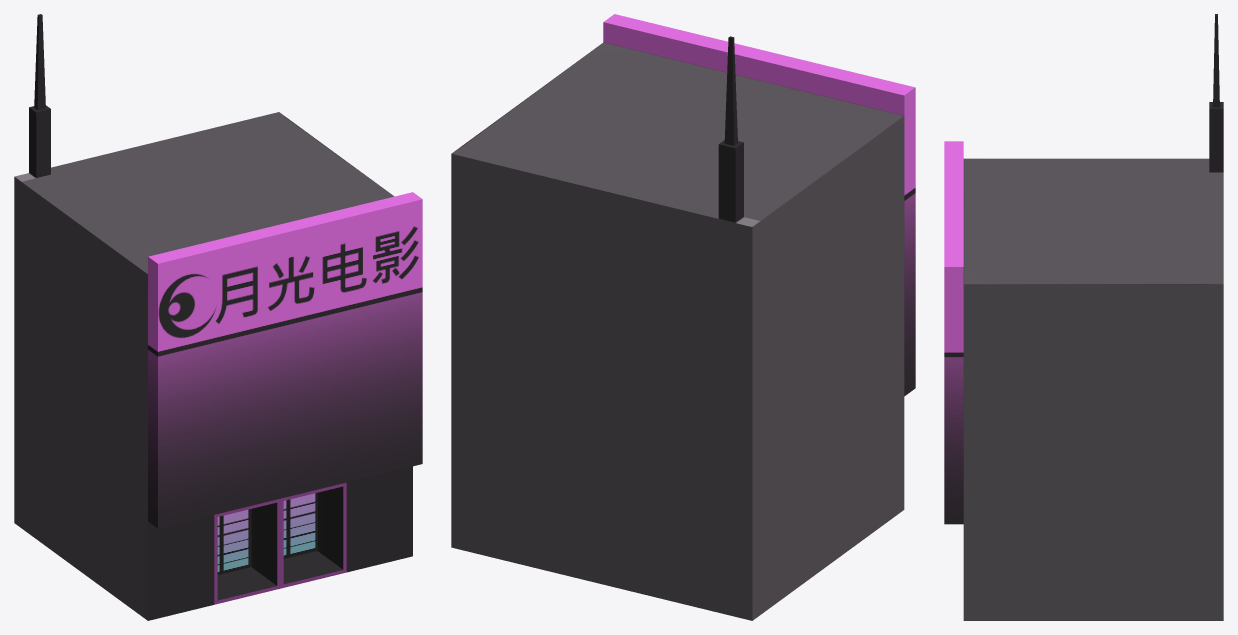
The model's file is building_05.fbx.
3 views of the same model, side by side, from view 1: azimuth 30°, elevation 25°; view 2: azimuth 150°, elevation 25°; view 3: azimuth 270°, elevation 25° (orthographic). The views are drawn at different scales.
Parts seen in each view (by area): view 1: building_05:Box005; view 2: building_05:Box005; view 3: building_05:Box005.
Boxes of the visible parts, box(x1,y1,x2,y2) form: building_05:Box005: box(14, 14, 422, 620); building_05:Box005: box(451, 14, 915, 620); building_05:Box005: box(944, 14, 1223, 620).
Bounding box in the file's own units: 364 × 664 × 342.
1 material, 1 textured.
